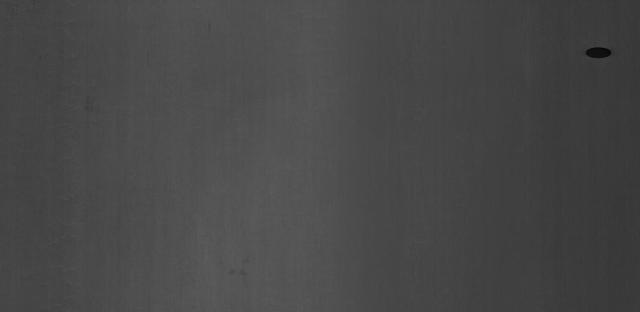punching_hole: (581, 43, 617, 63)
